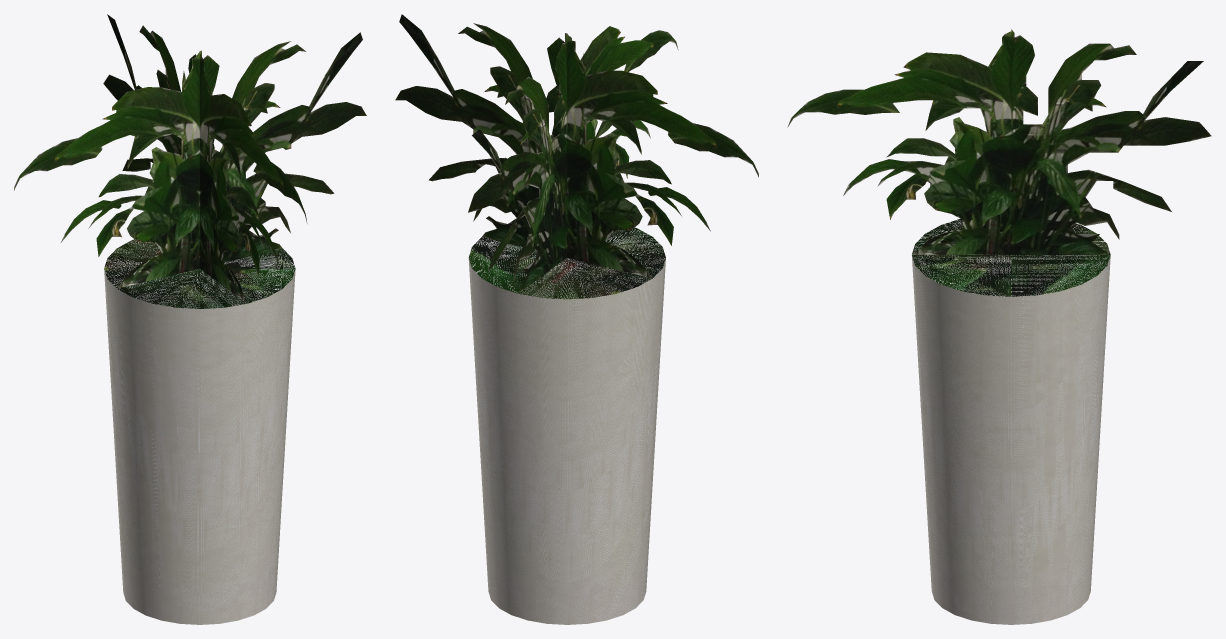
The model's file is large_plant_small.dae.
The picture shows the model from 3 angles, left to right: view 1: azimuth 30°, elevation 25°; view 2: azimuth 150°, elevation 25°; view 3: azimuth 270°, elevation 25°; orthographic projection. The views are drawn at different scales.
Visible parts, largest first — view 1: SketchUp (×4); view 2: SketchUp (×4); view 3: SketchUp (×3).
Part boxes in pixels (x1,y1,x2,y2): SketchUp (×4): [14, 14, 366, 624]; SketchUp (×4): [395, 14, 758, 624]; SketchUp (×3): [787, 29, 1211, 624].
Size of the model in its own units: 0.6383 by 0.6406 by 0.936.
Materials: 4 (2 with a texture image).
